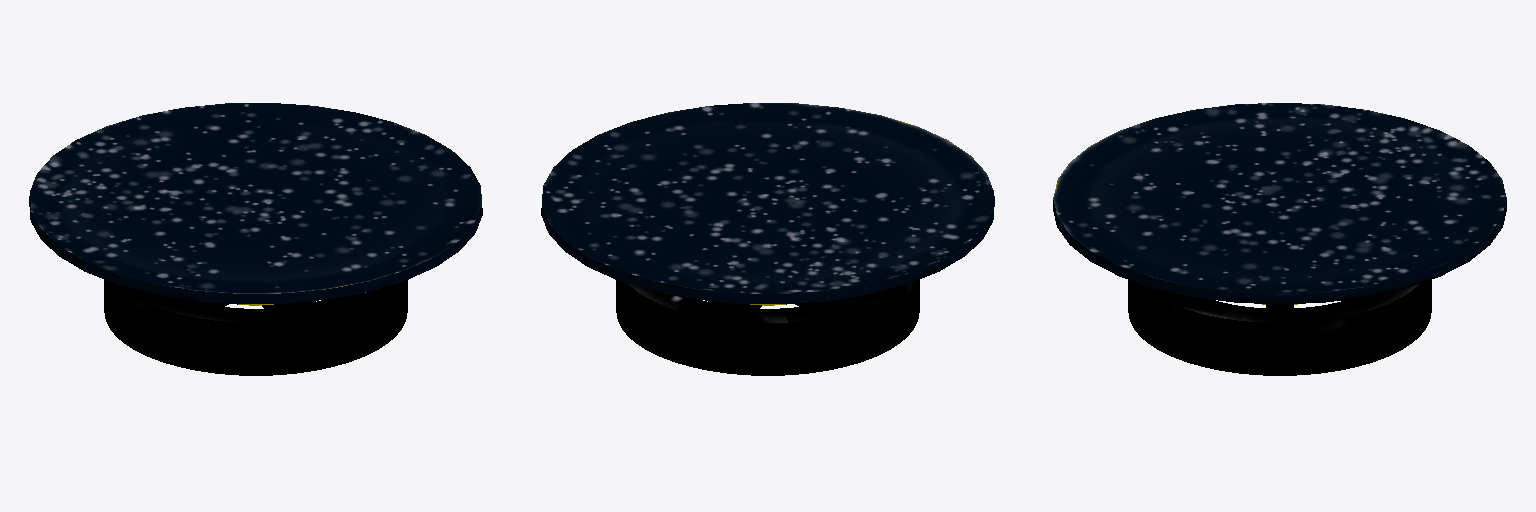
3 renders of one model, left to right at view 1: azimuth 30°, elevation 25°; view 2: azimuth 150°, elevation 25°; view 3: azimuth 270°, elevation 25°, orthographic.
Parts seen in each view (by area): view 1: Cylinder; view 2: Cylinder; view 3: Cylinder.
Boxes of the visible parts, x1,y1,x2,y2 form: Cylinder: [29, 103, 482, 375]; Cylinder: [541, 103, 994, 375]; Cylinder: [1053, 103, 1506, 375].
Size of the model in its own units: 3.37 by 0.9427 by 3.37.
Materials: 1 (1 with a texture image).